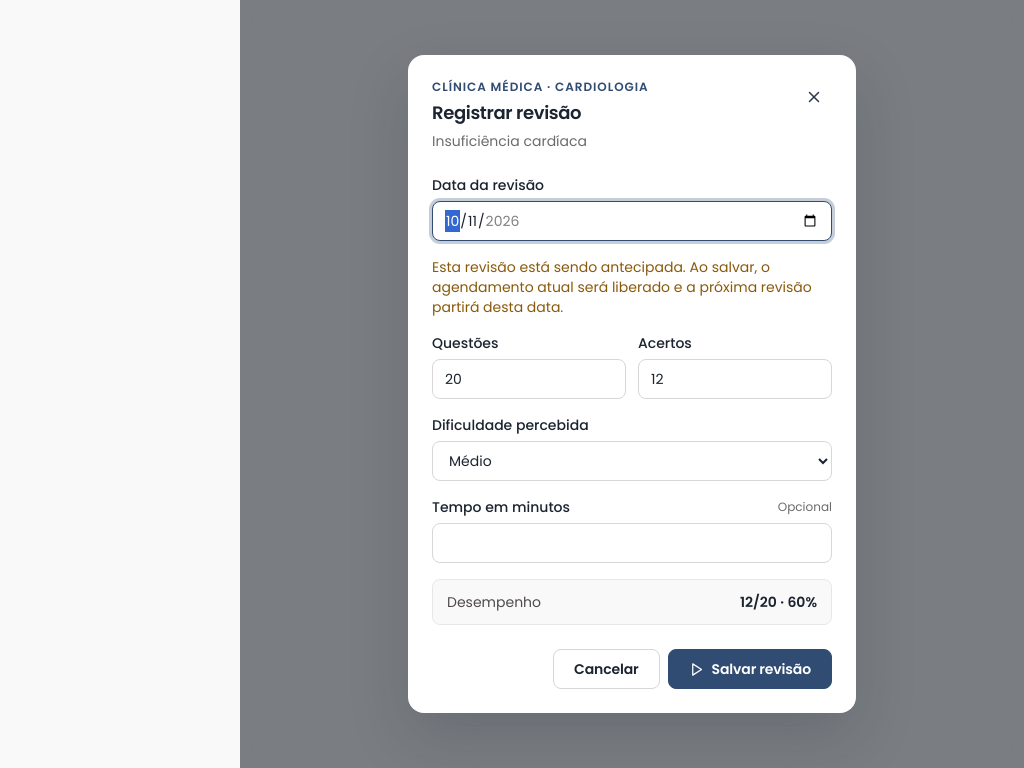
Test case: ReviewModal › confirms the saved review when only the page refresh fails
The image size is (1024, 768).
Click the button "Salvar revisão" at (750, 669), box [668, 649, 832, 689]
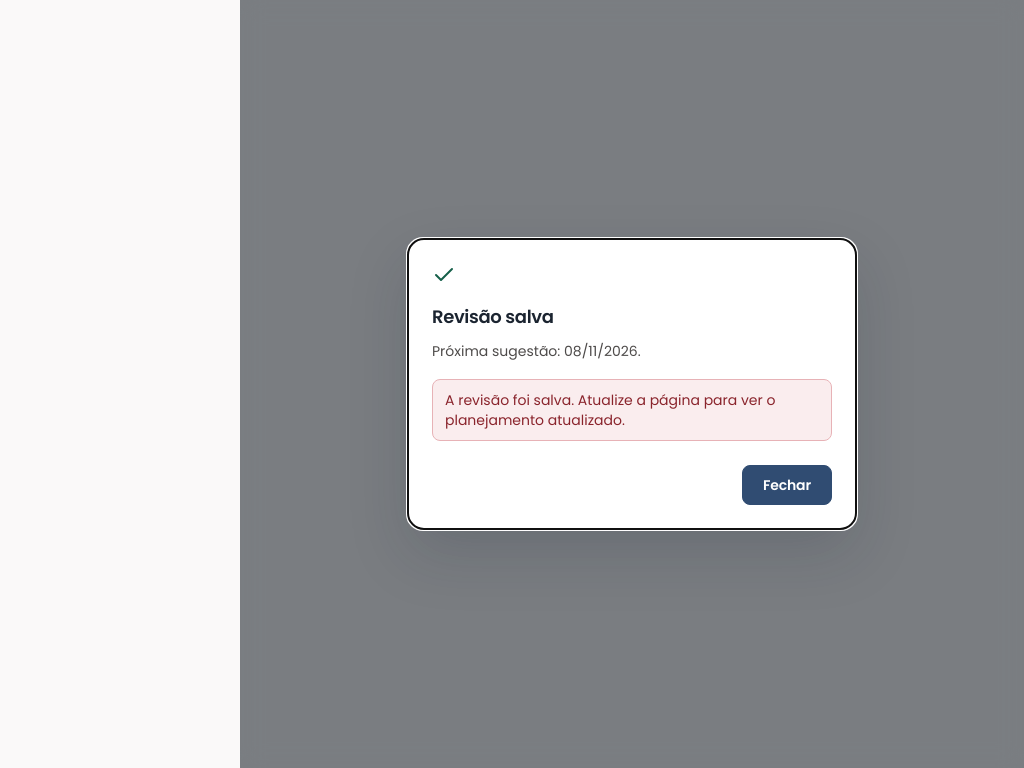
Now the dialog "Revisão salva" is shown
Now the text "A revisão foi salva. Atualize a página" is shown, box [445, 390, 776, 430]
